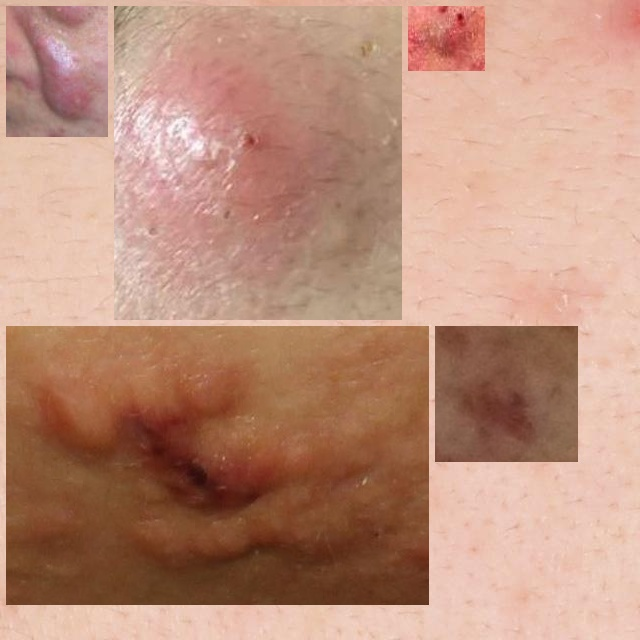nodule: (14, 334, 421, 597), (122, 14, 394, 312), (443, 334, 570, 454), (14, 14, 100, 129), (416, 14, 477, 63)
